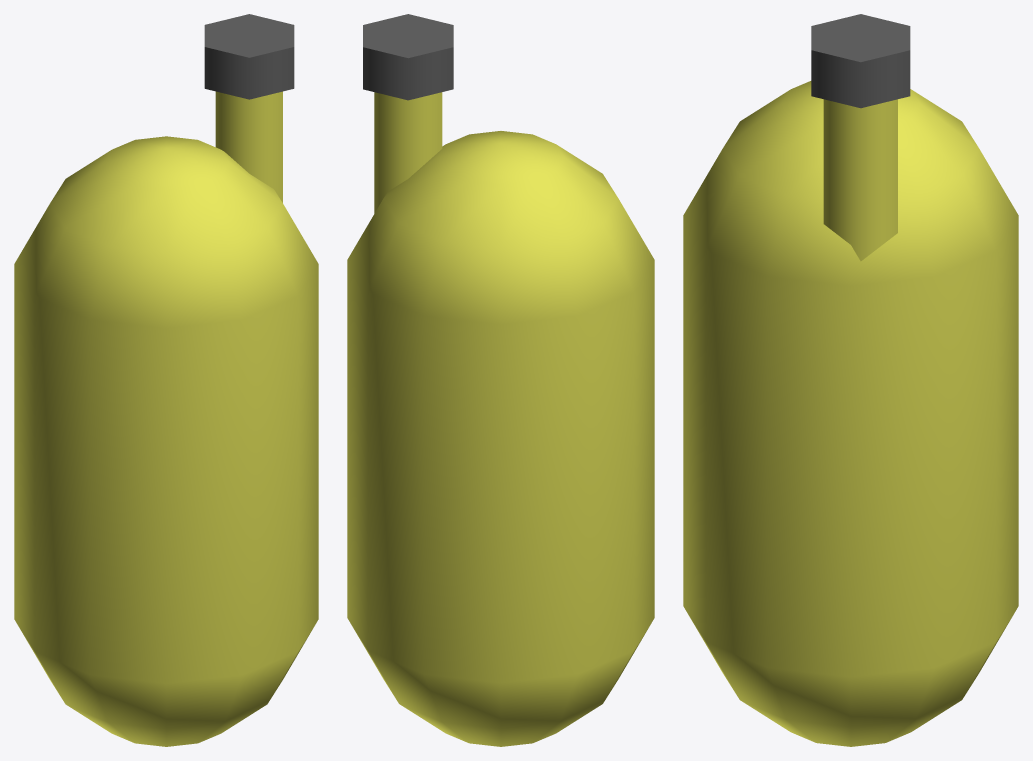
File: Pickup_WaterGunAmmo.fbx
3 views of the same model, side by side, from view 1: azimuth 30°, elevation 25°; view 2: azimuth 150°, elevation 25°; view 3: azimuth 270°, elevation 25° (orthographic). The views are drawn at different scales.
Visible parts, largest first — view 1: watergun; view 2: watergun; view 3: watergun.
Part boxes in pixels (<box>): watergun: <box>14,14,318,746</box>; watergun: <box>347,14,654,746</box>; watergun: <box>683,14,1018,746</box>.
Size of the model in its own units: 0.2749 by 0.6702 by 0.2744.
